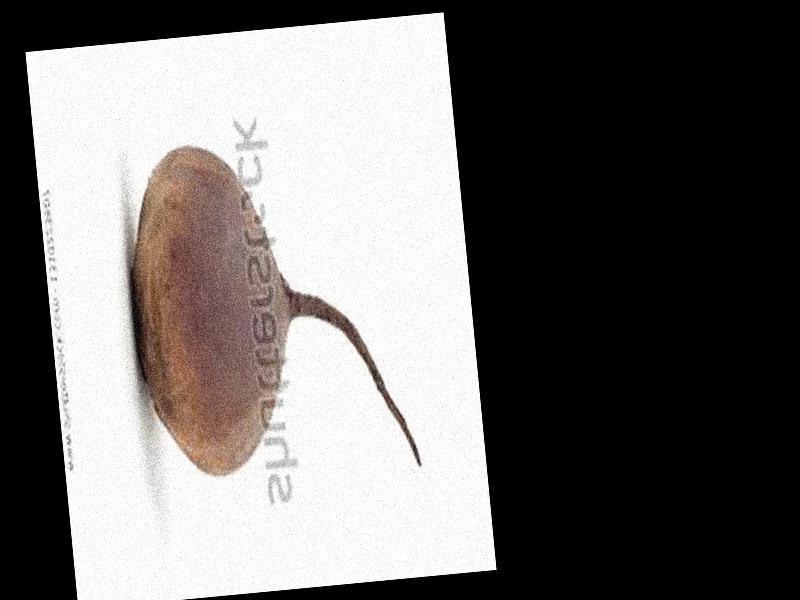Beet: (116, 122, 421, 491)
